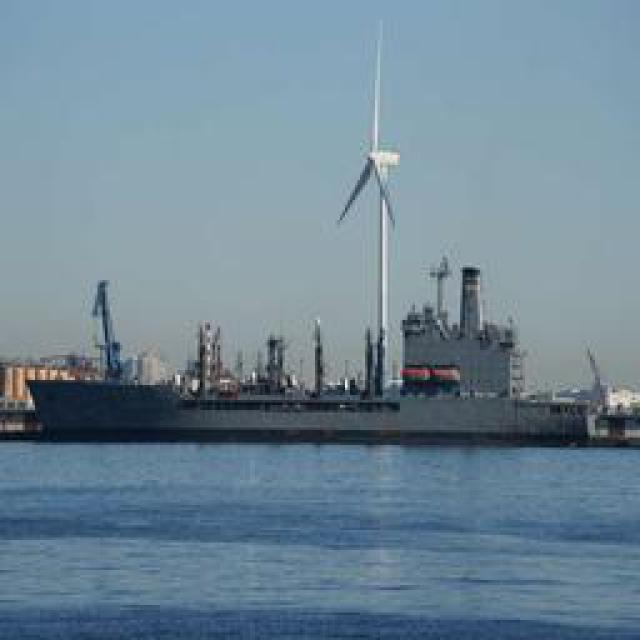Ship: (23, 380, 638, 443)
